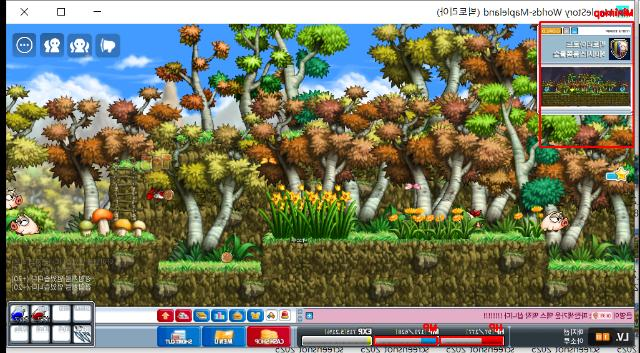me: (291, 204, 309, 244)
pig: (540, 204, 570, 248), (10, 212, 42, 235), (461, 206, 482, 234), (5, 188, 22, 206)
